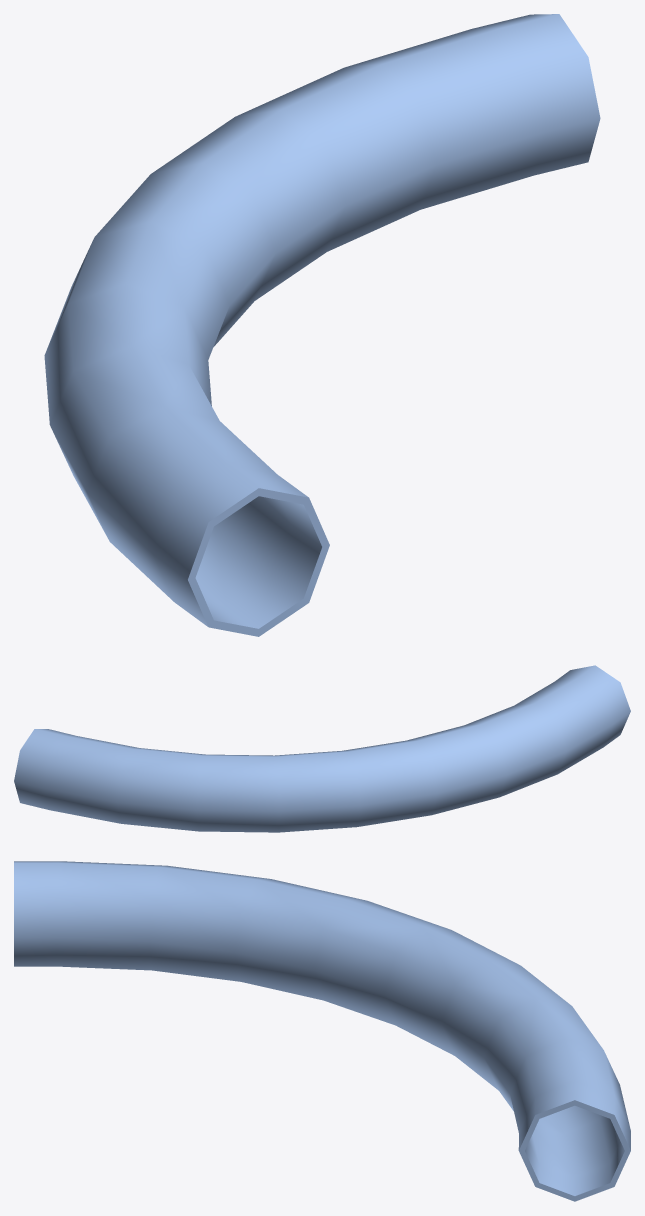
Rendered from PipeSmall_Hollow_Bent_04.fbx.
3 views of the same model, one above another, from view 1: azimuth 30°, elevation 25°; view 2: azimuth 150°, elevation 25°; view 3: azimuth 270°, elevation 25° (orthographic). The views are drawn at different scales.
Visible parts, largest first — view 1: PipeSmall_Hollow_Bent_04.001; view 2: PipeSmall_Hollow_Bent_04.001; view 3: PipeSmall_Hollow_Bent_04.001.
Part boxes in pixels (box(x1,y1,x2,y2)): PipeSmall_Hollow_Bent_04.001: box(44, 14, 600, 636); PipeSmall_Hollow_Bent_04.001: box(14, 665, 630, 832); PipeSmall_Hollow_Bent_04.001: box(14, 861, 630, 1201).
Bounding box in the file's own units: 0.55 × 0.1 × 0.55.
